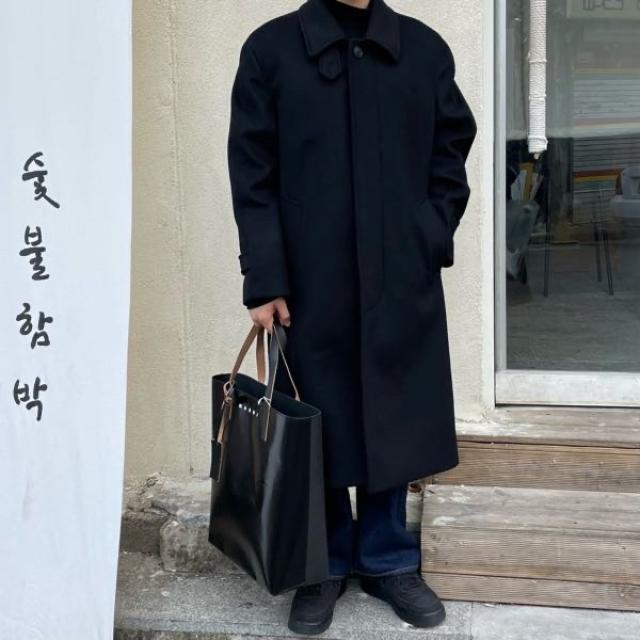coat: (227, 0, 478, 491)
denimpants: (329, 474, 419, 578)
